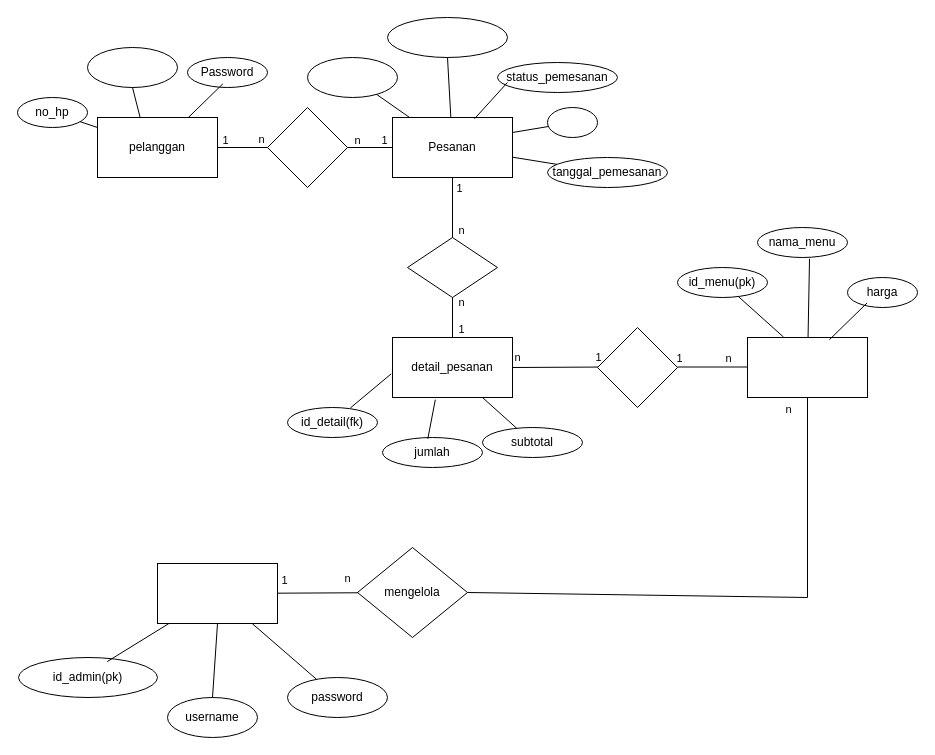
This 935x755 diagram has some shape labels left out. Each missing label, with the centre of its shape:
"berisi" belongs at (637,367).
"id_pelanggan (pk)" belongs at (132,67).
"id_pesanan (fk)" belongs at (352,77).
"kasir" belongs at (217,593).
"Membuat" belongs at (307,147).
"memiliki" belongs at (452,267).
"menu" belongs at (807,367).
"metode_pembayaran" belongs at (447,37).
"no_meja" belongs at (572,122).
